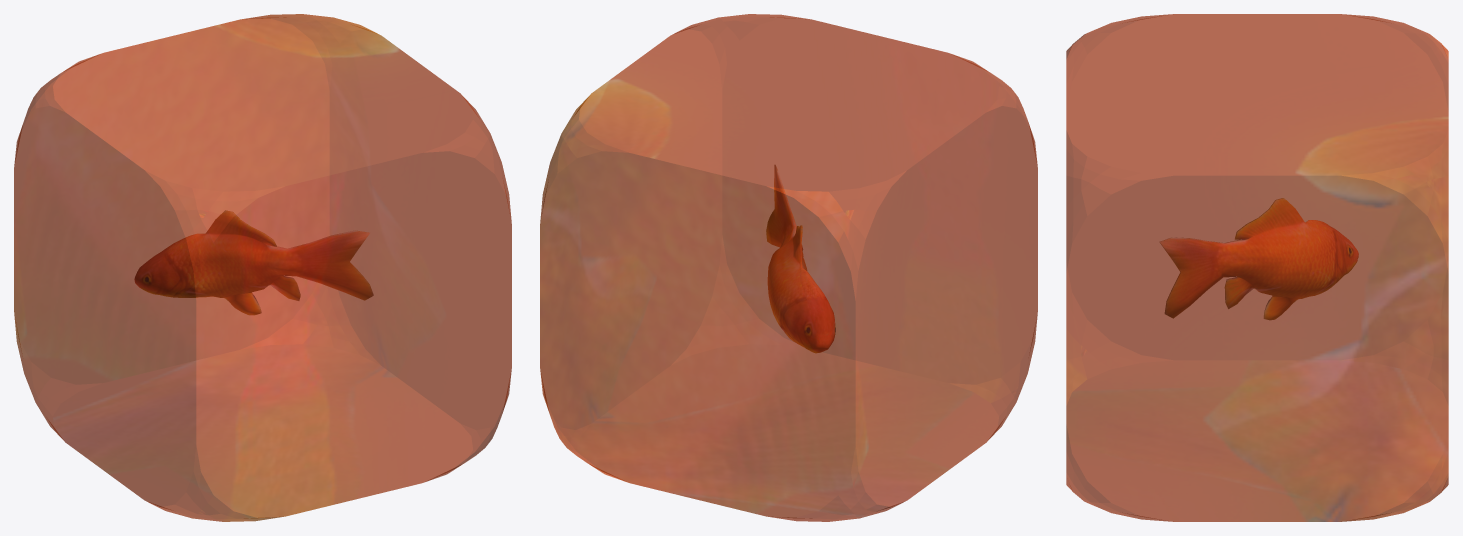
3 views of the same model, side by side, from view 1: azimuth 30°, elevation 25°; view 2: azimuth 150°, elevation 25°; view 3: azimuth 270°, elevation 25° (orthographic). The views are drawn at different scales.
Parts seen in each view (by area): view 1: Cube, Object_2; view 2: Cube, Object_2; view 3: Cube, Object_2.
Part boxes in pixels (x1,y1,x2,y2): Cube: (14, 14, 511, 521); Object_2: (134, 210, 373, 315); Cube: (540, 14, 1037, 521); Object_2: (766, 165, 835, 353); Cube: (1066, 14, 1448, 521); Object_2: (1159, 198, 1358, 320).
Bounding box in the file's own units: 200 × 200 × 200.
2 materials, 2 textured.
